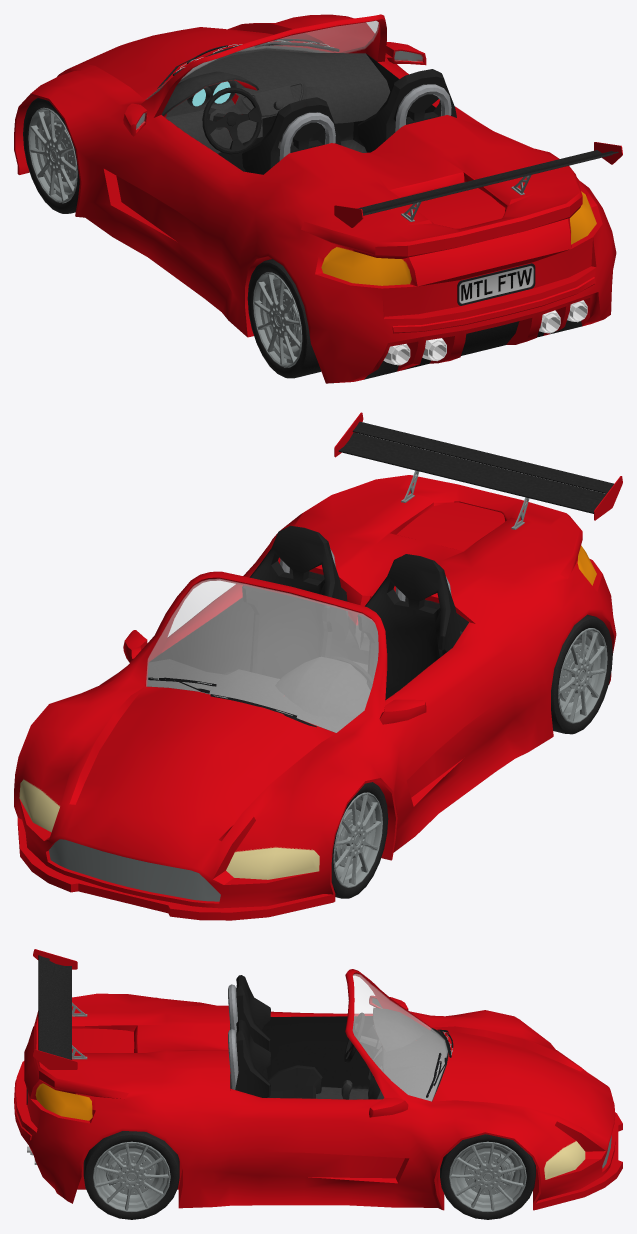
File: racing-car.obj
3 renders of one model, top to bottom at view 1: azimuth 30°, elevation 25°; view 2: azimuth 150°, elevation 25°; view 3: azimuth 270°, elevation 25°, orthographic. The views are drawn at different scales.
Parts seen in each view (by area): view 1: RacingCar.001; view 2: RacingCar.001; view 3: RacingCar.001.
Boxes of the visible parts, left/top/right/bottom form: RacingCar.001: left=14, top=14, right=622, bottom=383; RacingCar.001: left=14, top=412, right=622, bottom=920; RacingCar.001: left=14, top=949, right=622, bottom=1219.
Bounding box in the file's own units: 1.88 × 1.18 × 3.96.
